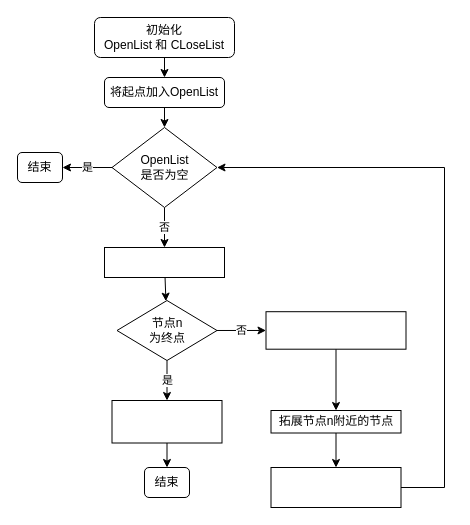
The diagram is 470 pixels wide and 525 high, and some of its shapes have lost their labels. Here are the shapes that lost their labels. From the top down, the centre of each, then its label:
point (164, 262): 选择代价最低节点n
point (335, 330): 将节点n从openList中删除，并加入closeList中
point (166, 421): 反向追踪 返回结果的路径
point (335, 487): 将未检查过的节点加入OpenList
